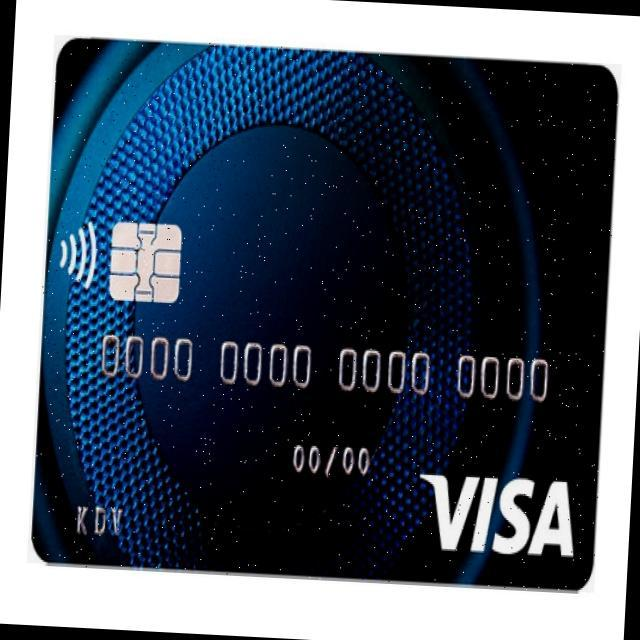payment_card: (28, 36, 609, 593)
